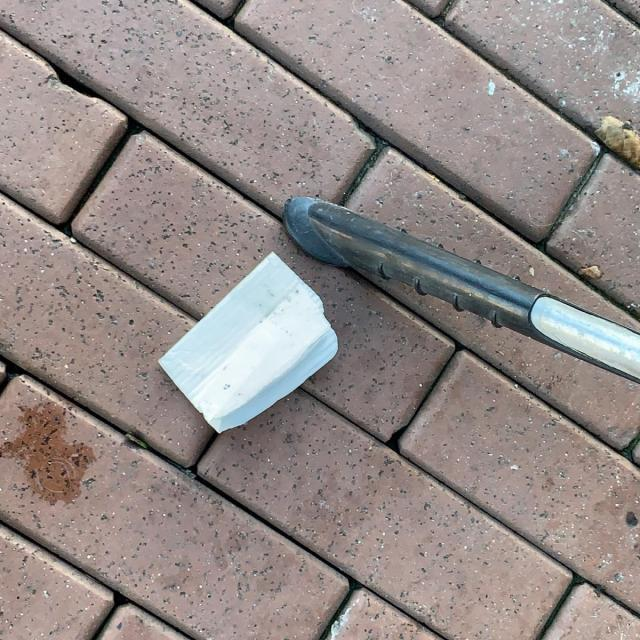Paper: (153, 250, 340, 438)
